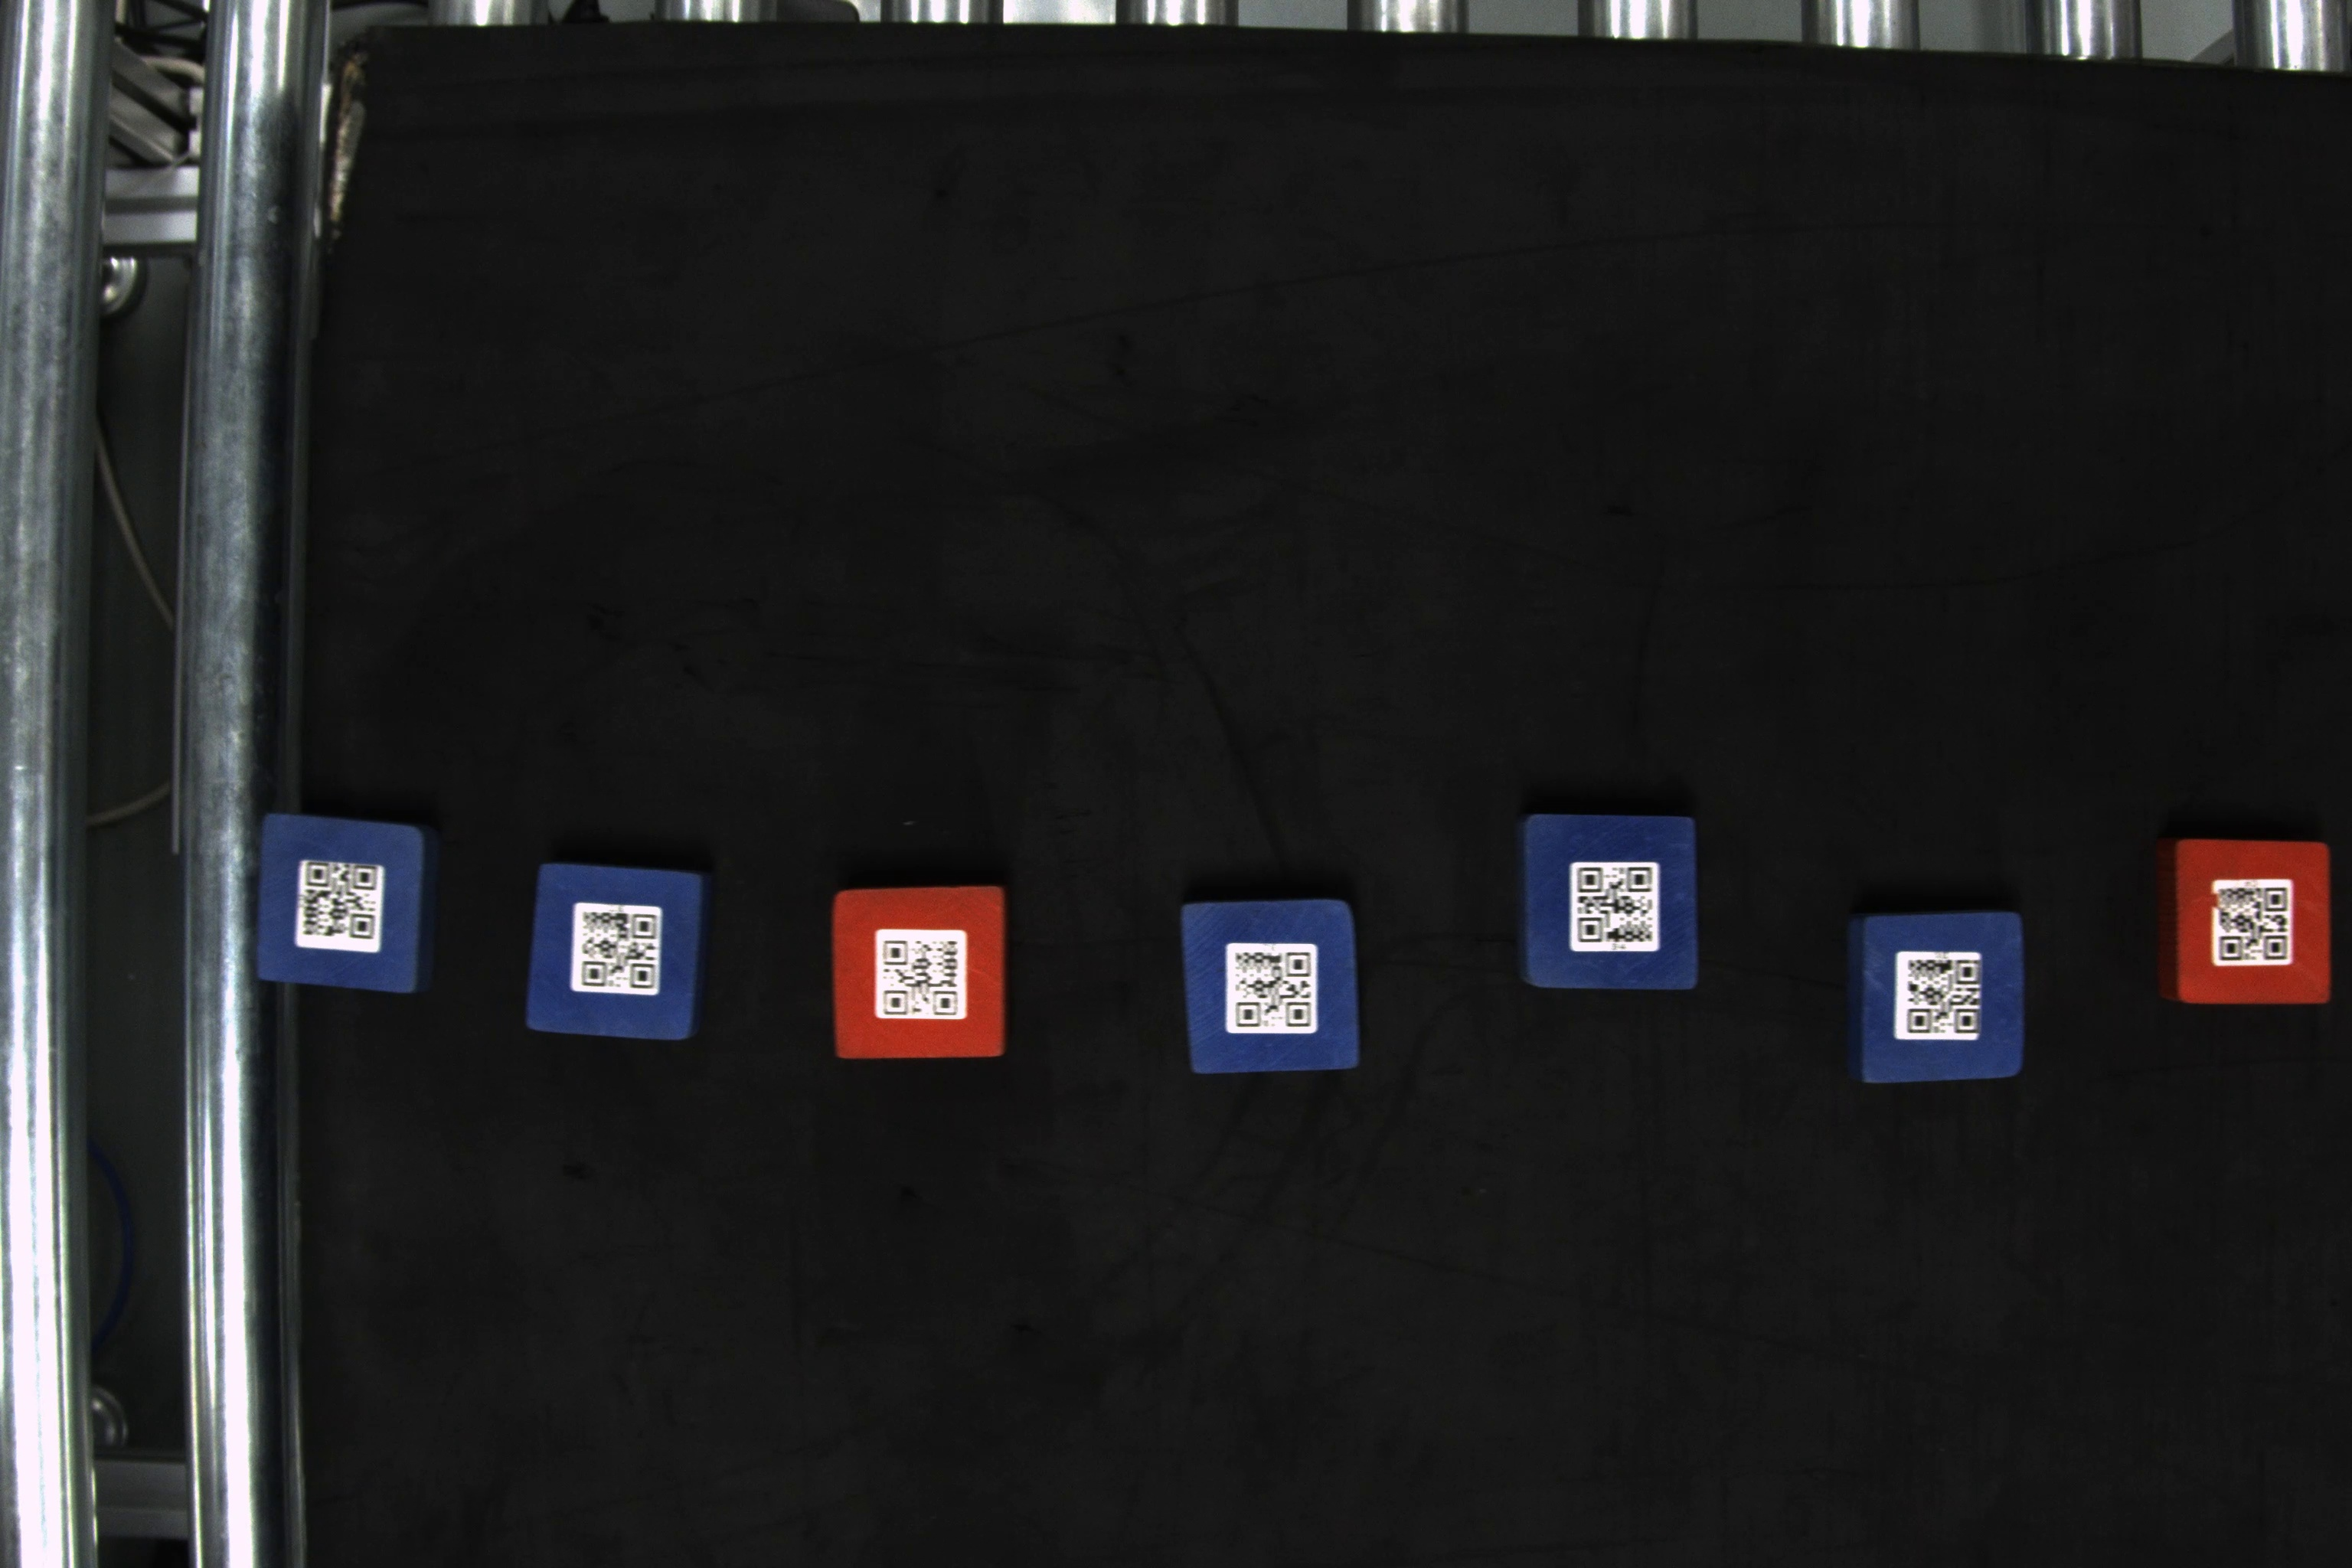wood: (254, 807, 444, 1006), (826, 882, 1013, 1069), (527, 856, 710, 1046), (1522, 805, 1704, 994), (1176, 899, 1360, 1073), (1848, 912, 2033, 1081), (2159, 829, 2334, 1008)
